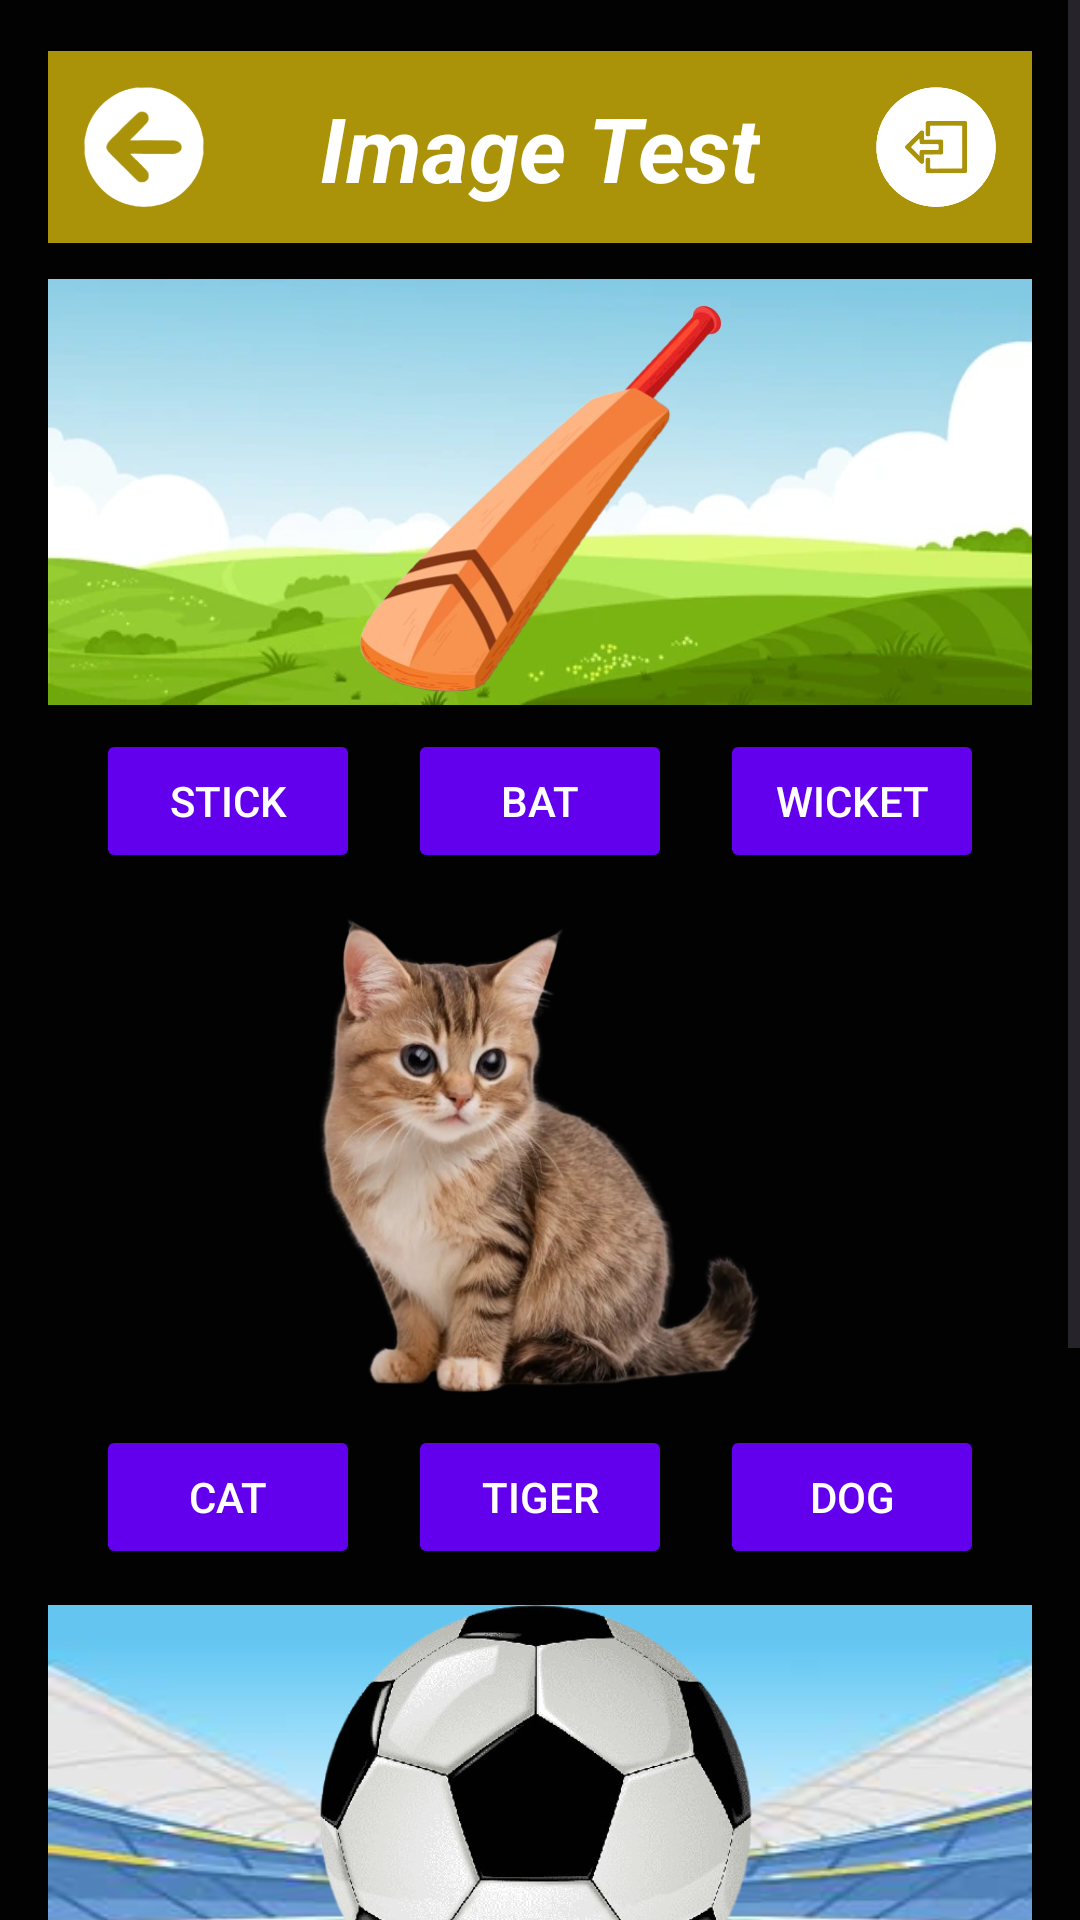

Icon click points for this 1080px×1920px phone screenshot, format [x,y]:
back: [144,147]
